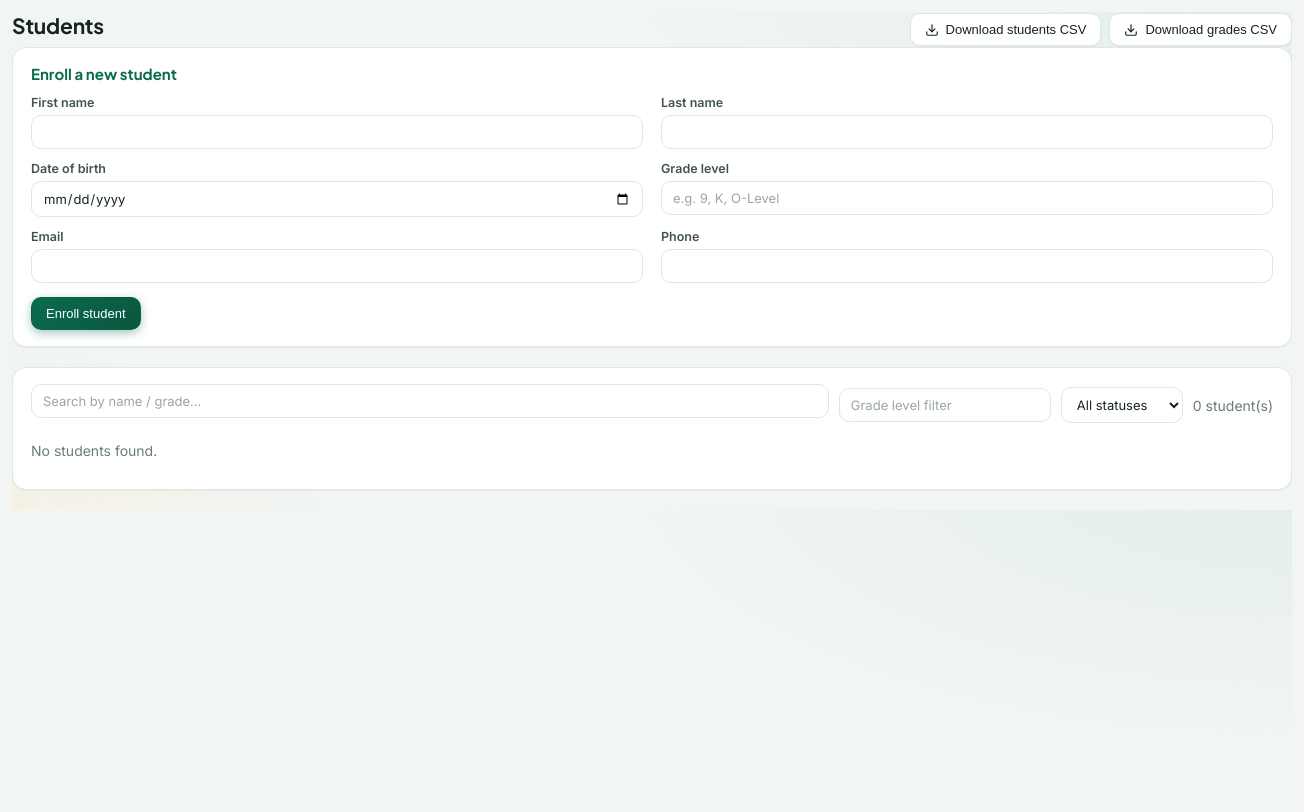
Test: Students page › enrolls a student via POST and clears the form
The image size is (1304, 812).
In the field labelled "First name": (337, 132) [31,115,643,149], type "Sara"
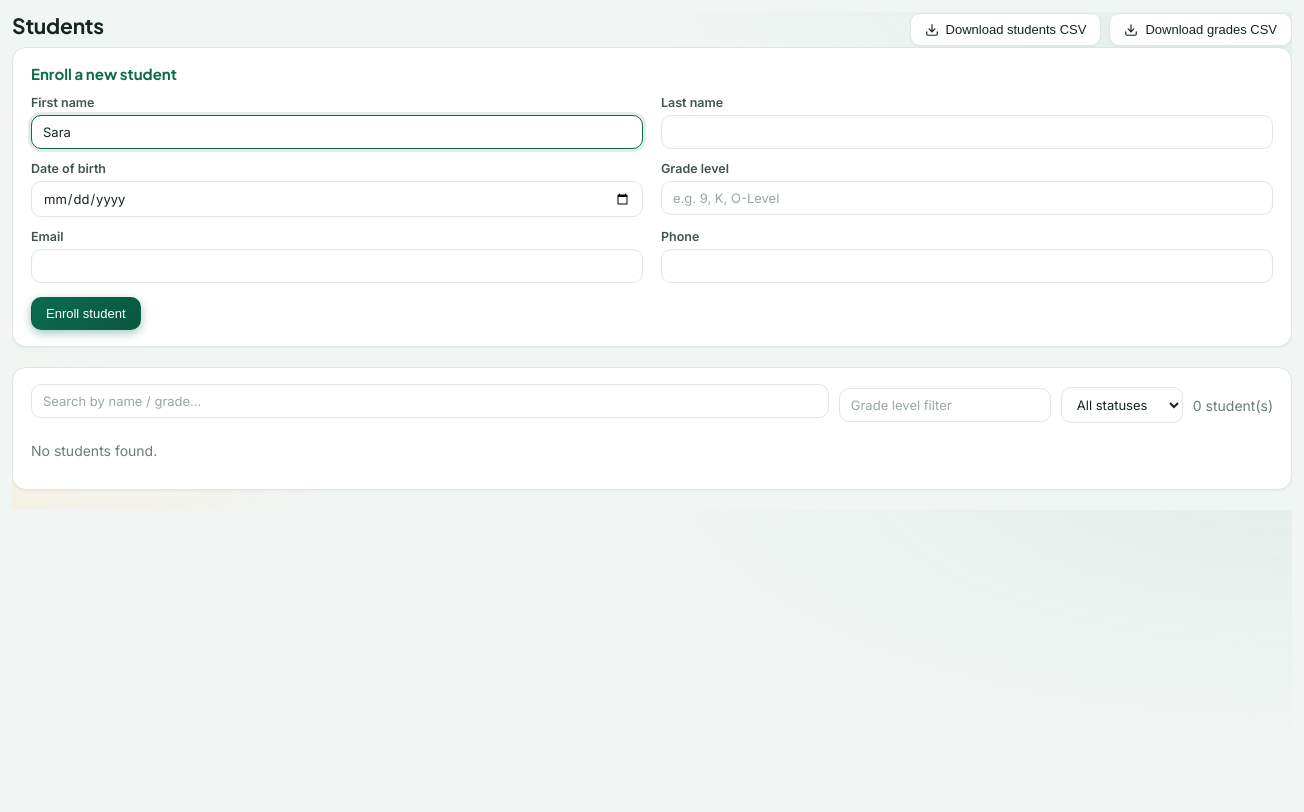
In the field labelled "Last name": (967, 132) [661,115,1273,149], type "Khan"
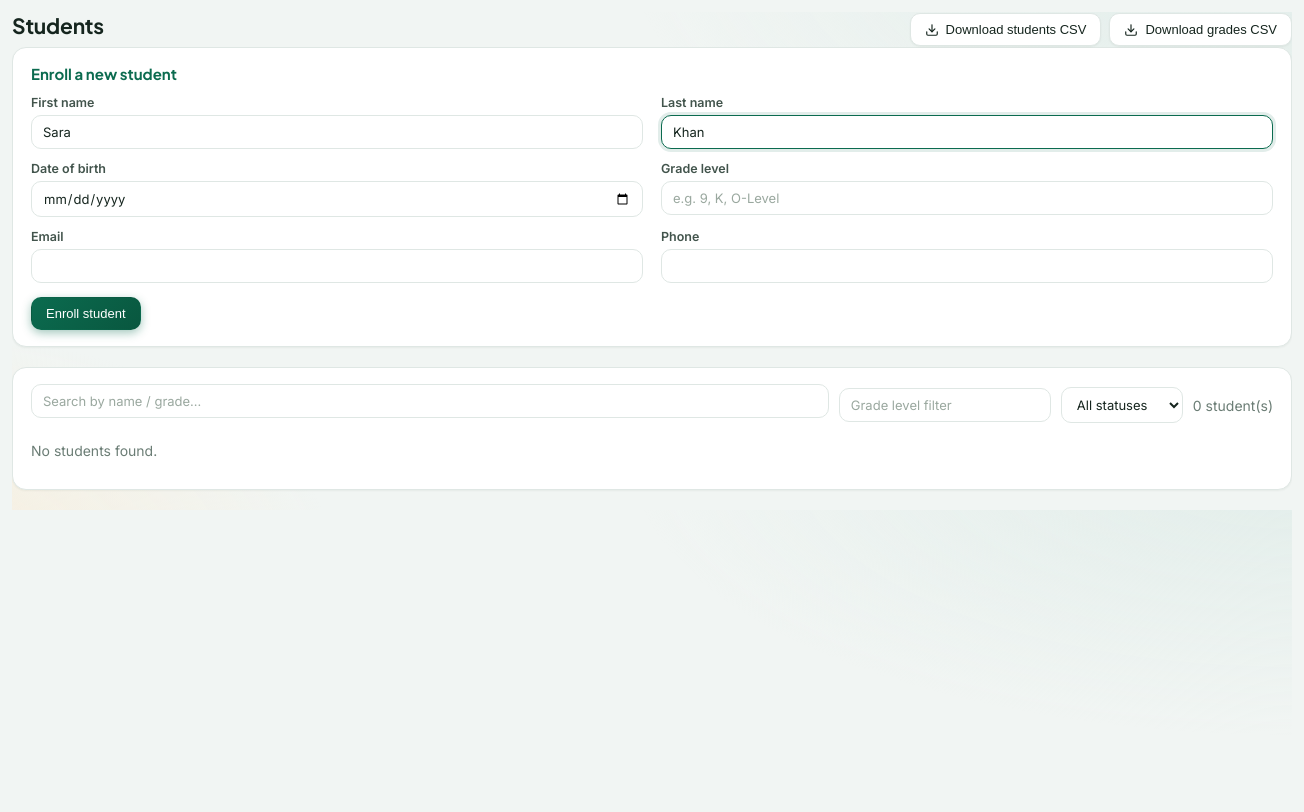
In the date field labelled "Date of birth": (337, 199) [31,181,643,217], type "2011-06-01"
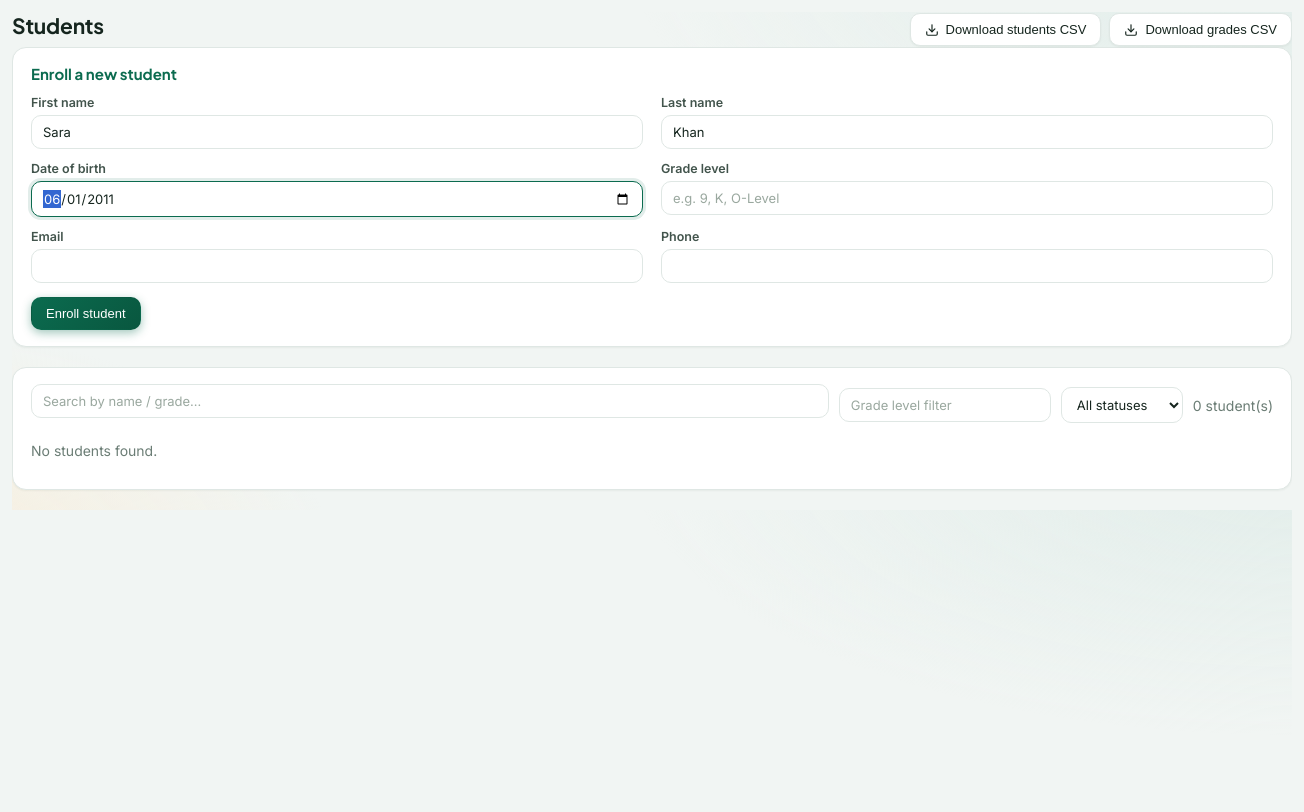
In the field labelled "Grade level": (967, 198) [661,181,1273,215], type "10"
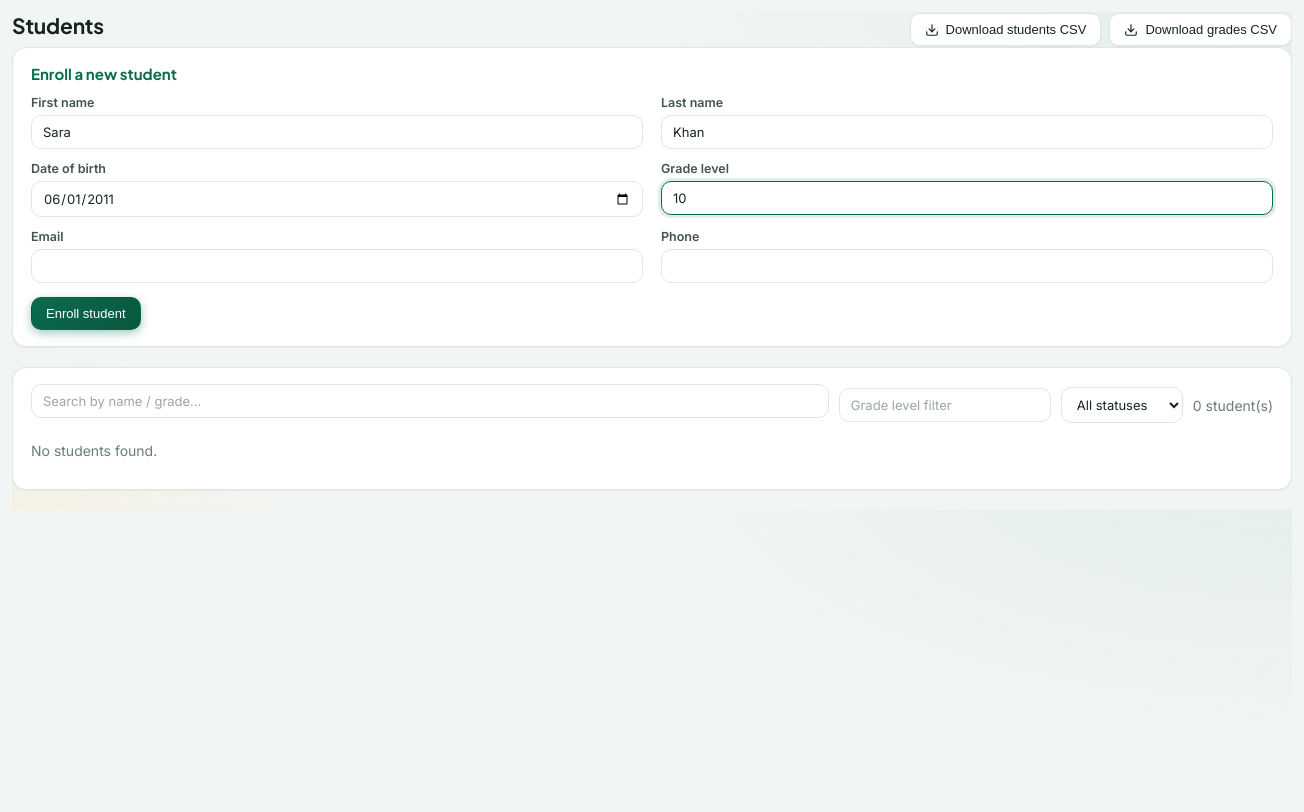
Click the button "Enroll student": (86, 314) [31,297,140,330]
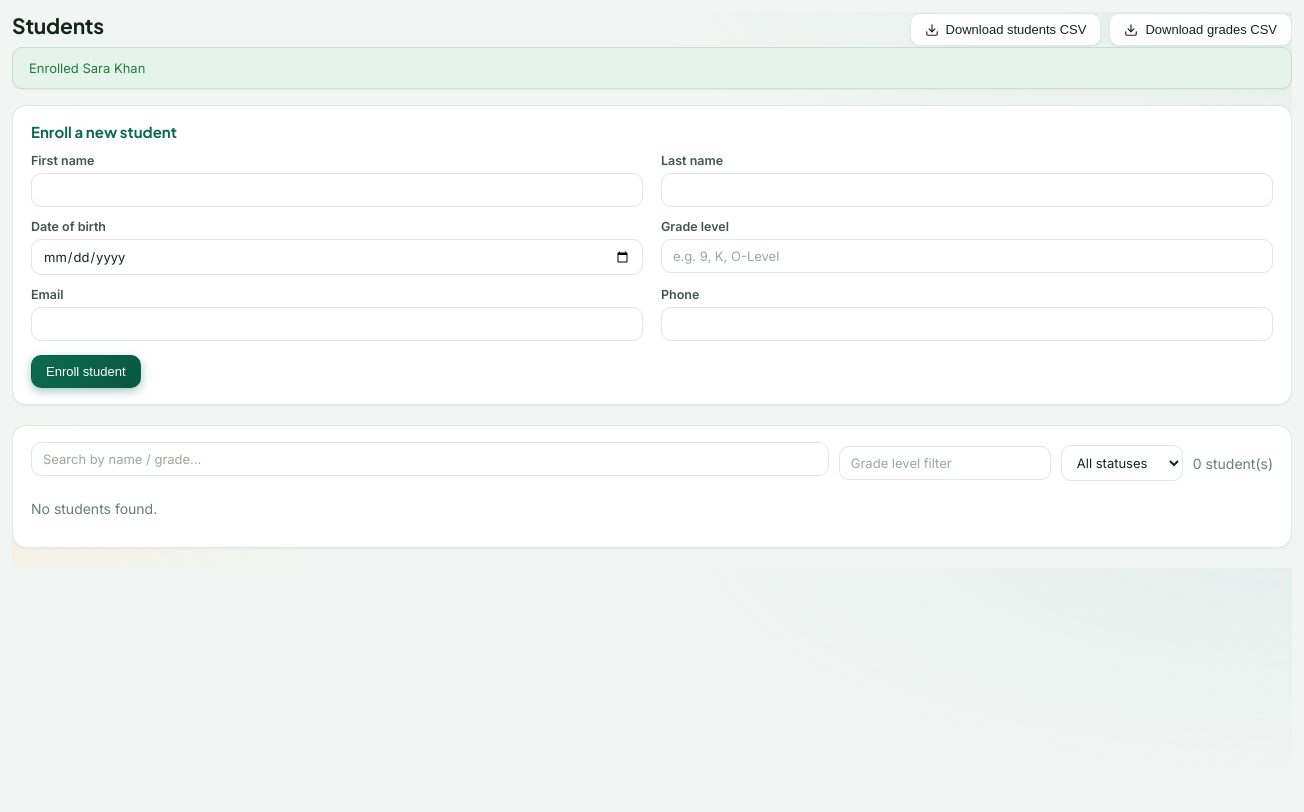
Check: the text "Enrolled Sara Khan" is shown, box [12,47,1292,89]
